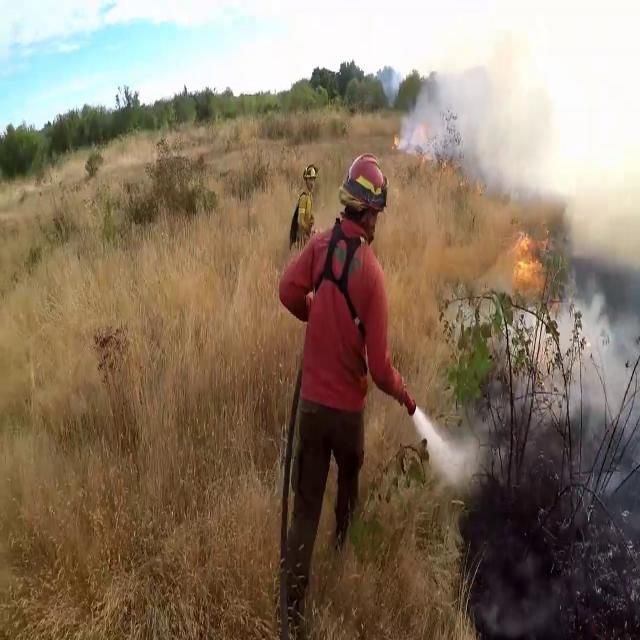Fire: (505, 223, 546, 290)
Smoke: (405, 1, 640, 256)
